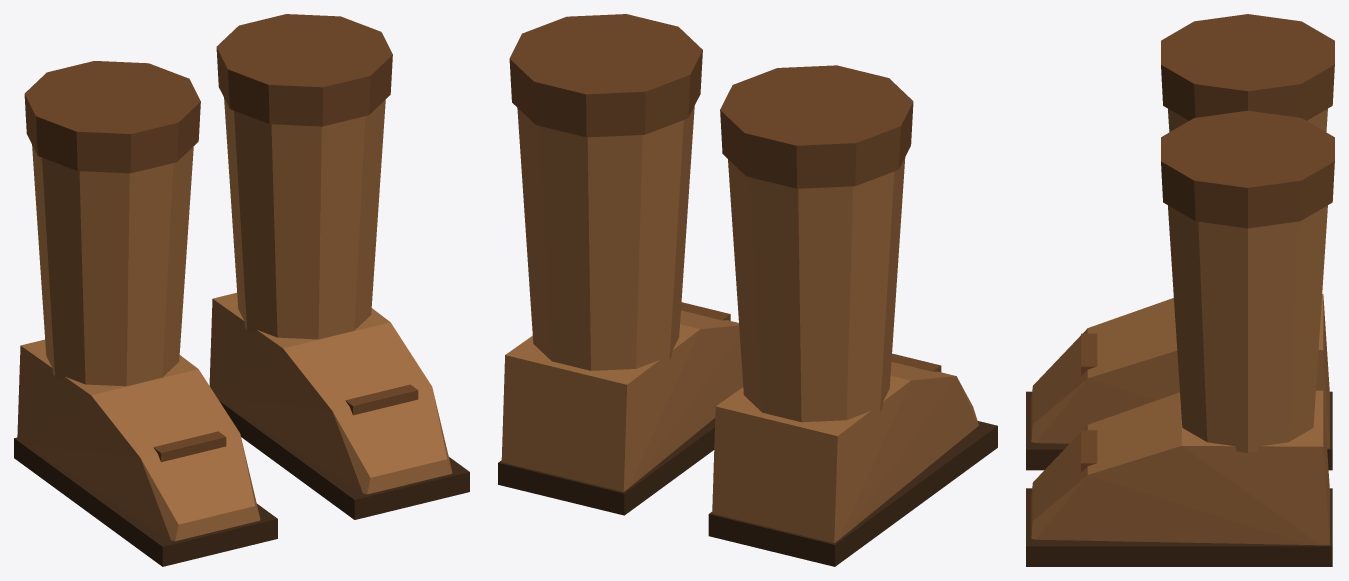
The model's file is drop_boots_leather.glb.
3 views of the same model, side by side, from view 1: azimuth 30°, elevation 25°; view 2: azimuth 150°, elevation 25°; view 3: azimuth 270°, elevation 25° (orthographic). The views are drawn at different scales.
Parts seen in each view (by area): view 1: drop_boots_leather; view 2: drop_boots_leather; view 3: drop_boots_leather.
Part boxes in pixels (<box>): drop_boots_leather: <box>14,14,469,566</box>; drop_boots_leather: <box>498,14,997,566</box>; drop_boots_leather: <box>1026,14,1334,566</box>.
Bounding box in the file's own units: 0.216 × 0.225 × 0.1621.
